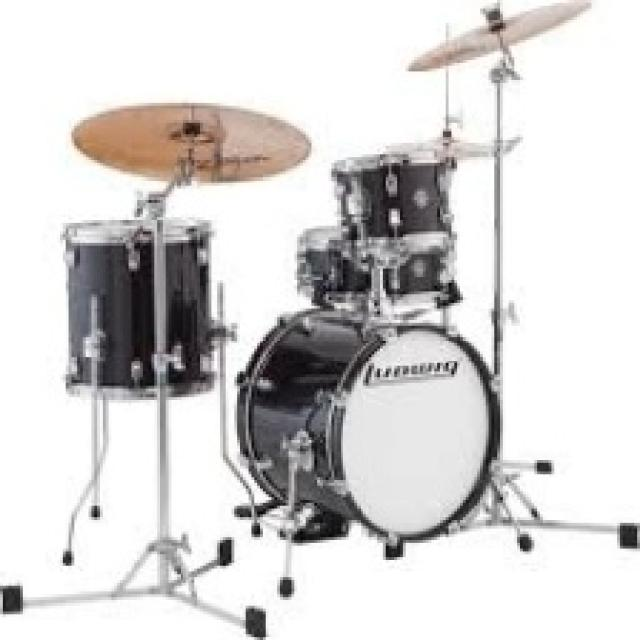drums: (38, 7, 633, 628)
